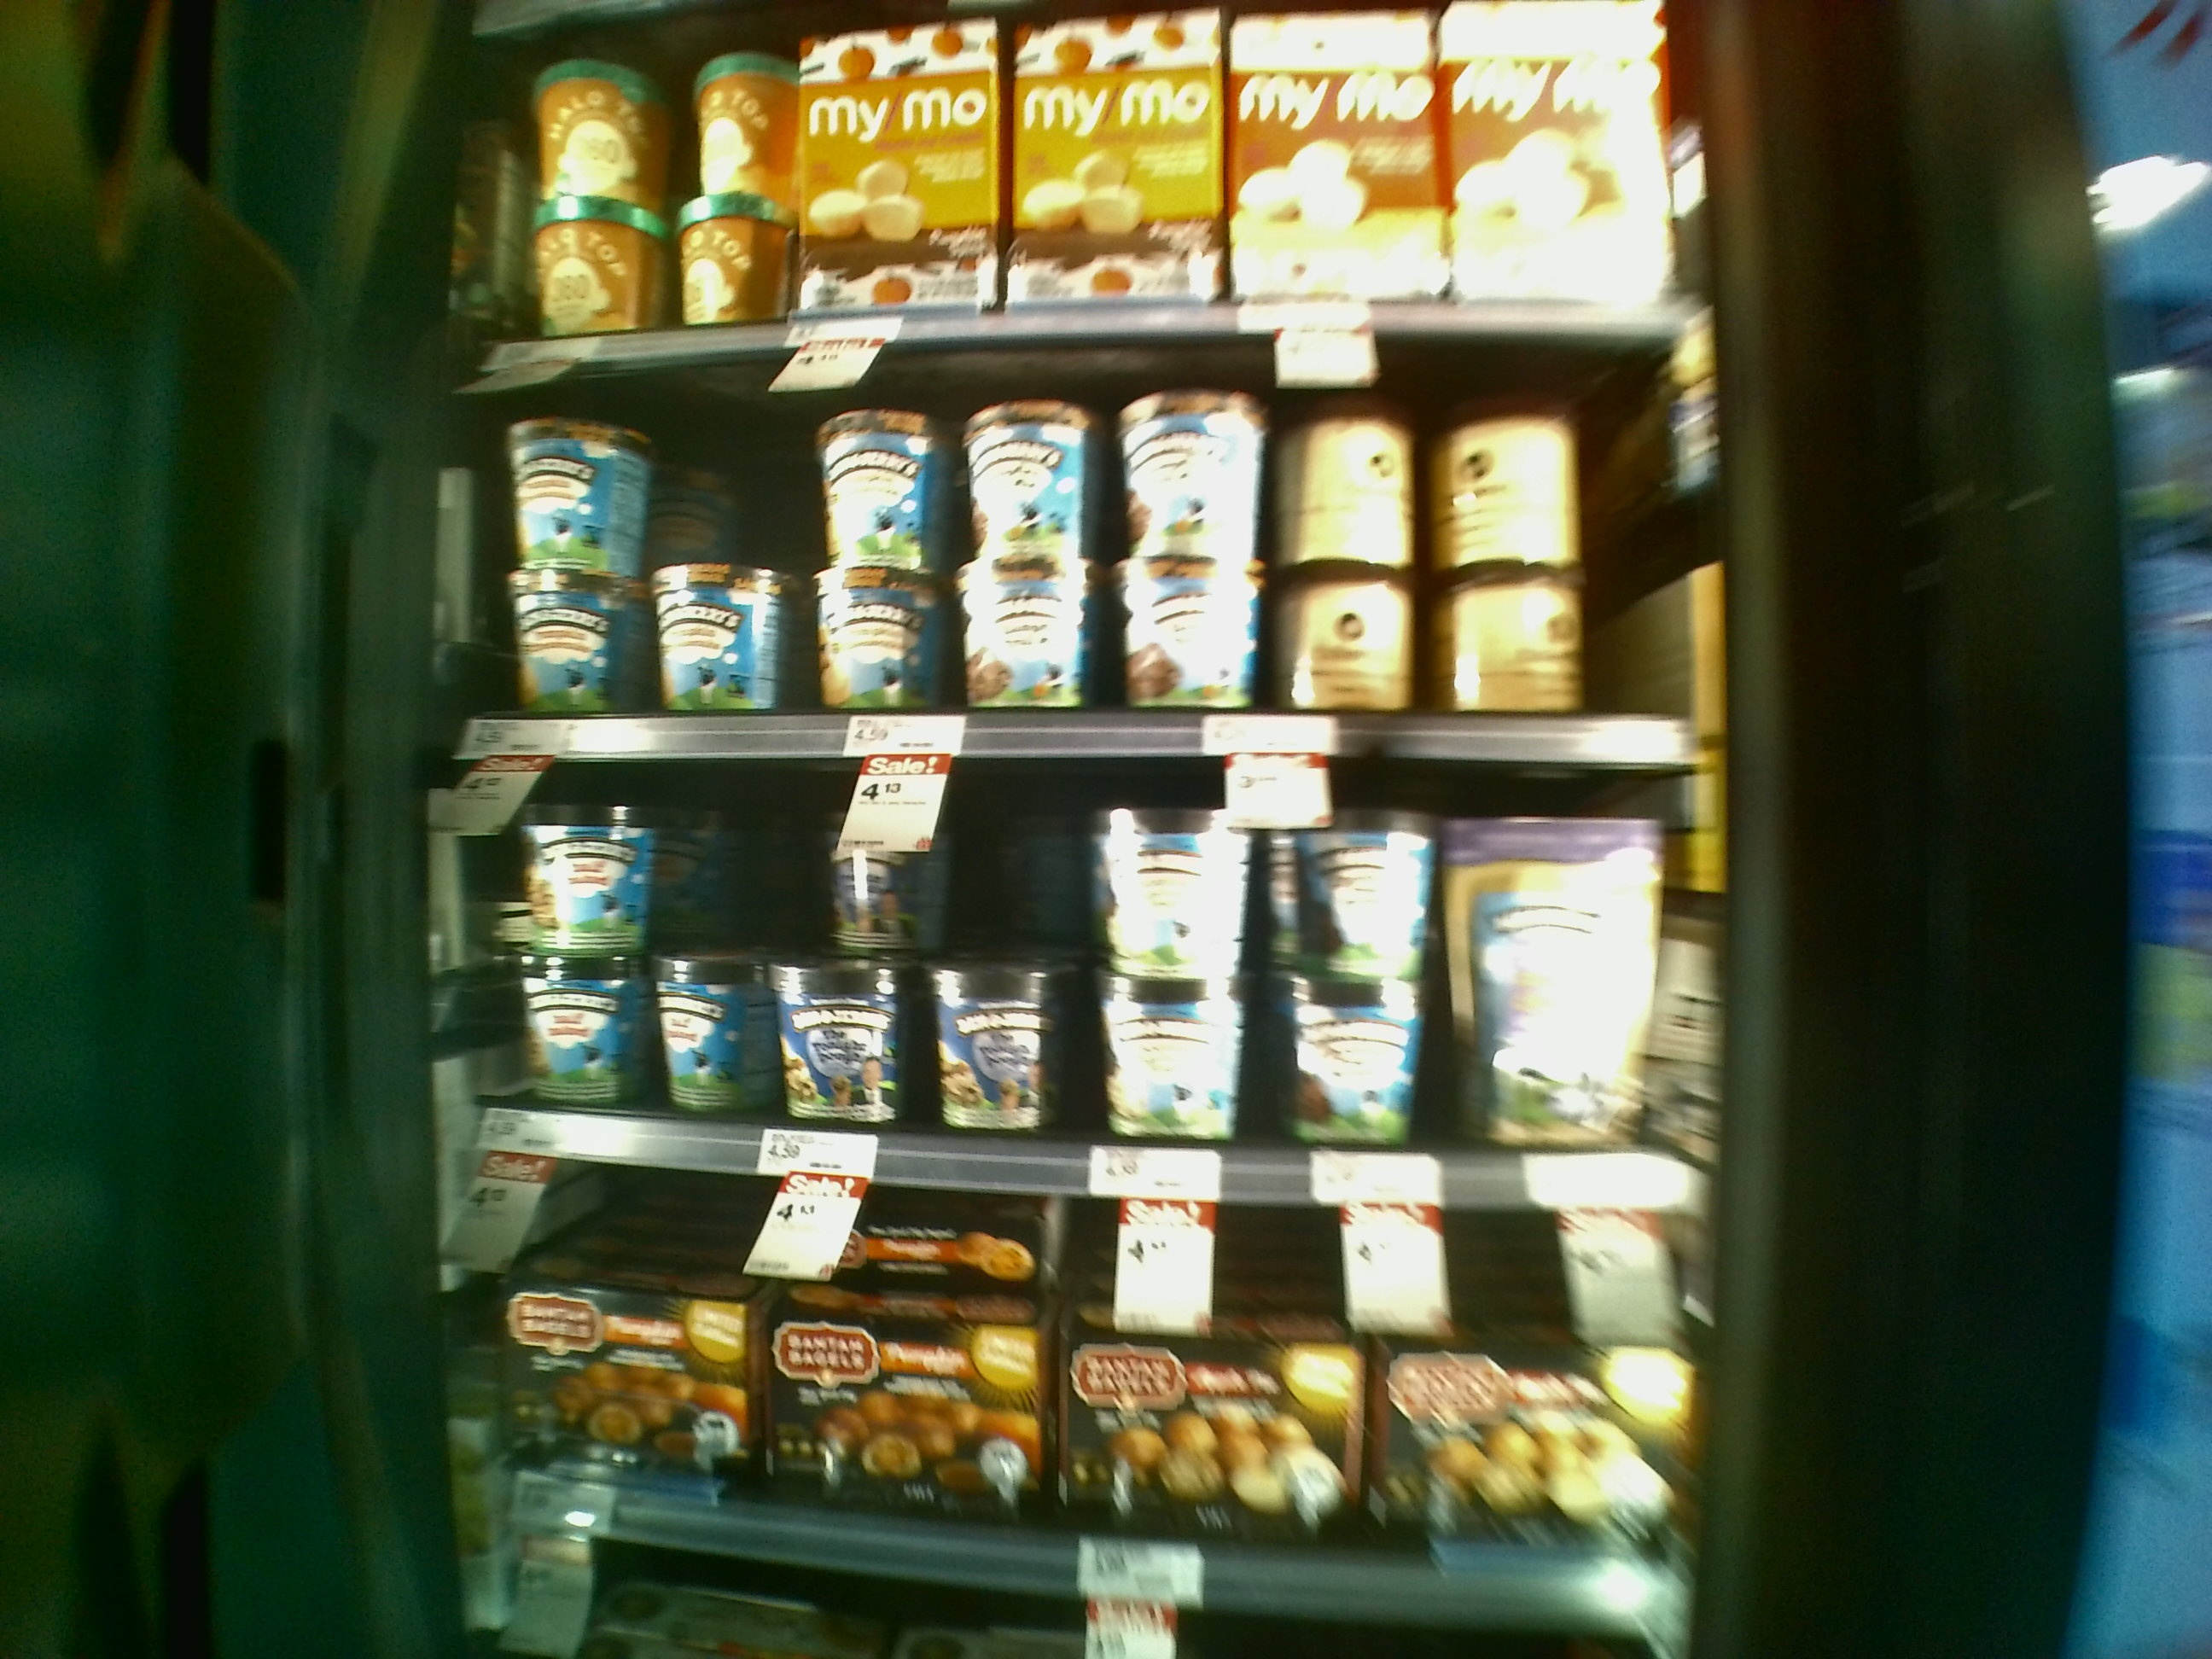shelf: (462, 1121, 1695, 1629), (427, 730, 1707, 1213), (444, 349, 1719, 775)
